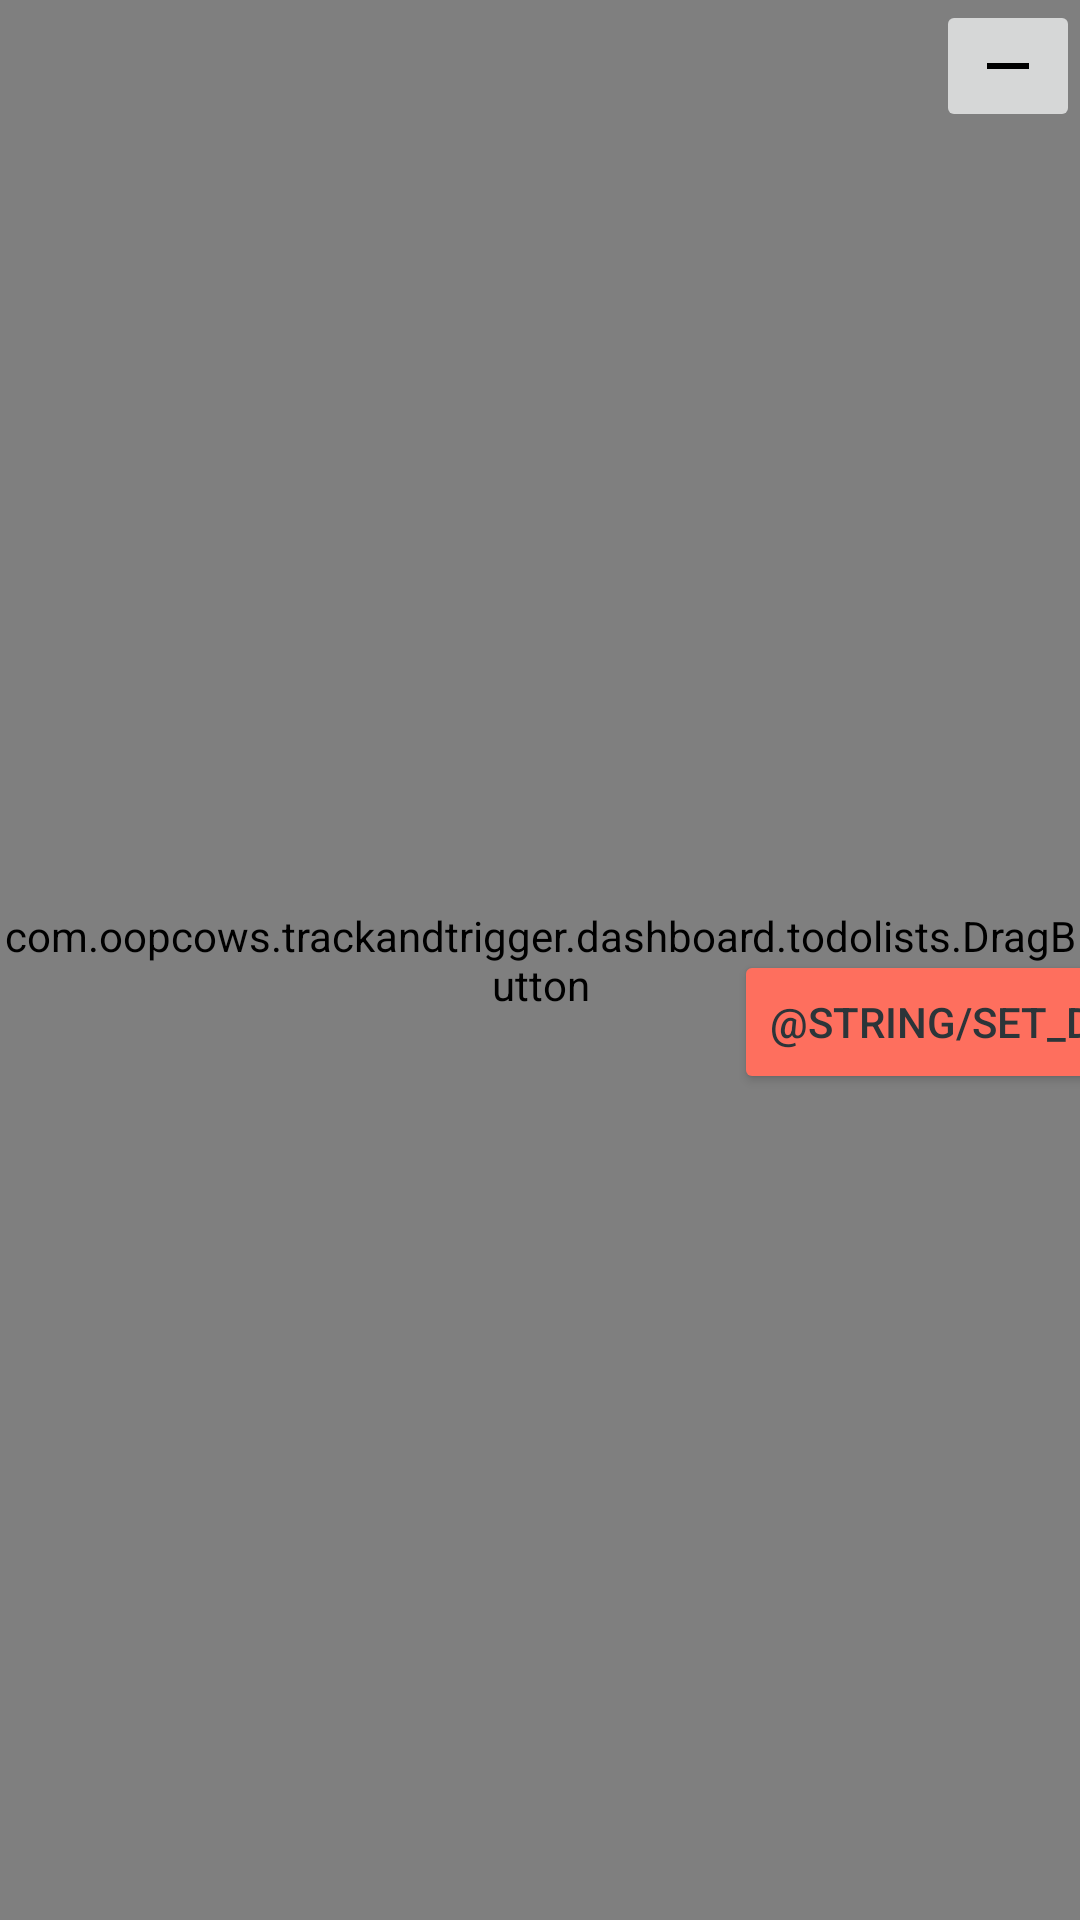

Icon click points for this 1080×1920 phone screenshot, format (x=x, y=y):
remove: (x=1008, y=66)
